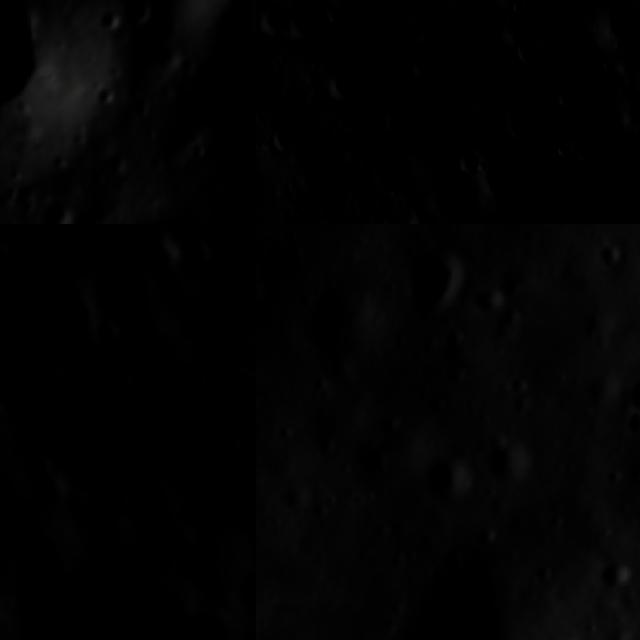crater: (403, 530, 560, 640), (282, 268, 403, 380), (376, 224, 488, 334), (0, 0, 76, 156), (412, 439, 490, 518), (472, 429, 548, 501), (0, 364, 74, 421), (459, 271, 516, 329), (586, 544, 640, 605), (494, 89, 556, 137), (584, 231, 638, 286), (602, 394, 640, 453), (589, 2, 640, 42), (226, 37, 256, 103), (352, 437, 394, 482), (141, 240, 186, 280), (614, 358, 640, 427), (114, 0, 157, 41), (10, 453, 50, 493), (169, 360, 202, 406), (232, 565, 256, 619), (323, 62, 358, 99), (256, 0, 289, 39), (39, 194, 80, 224), (514, 30, 548, 64), (87, 310, 113, 353), (9, 225, 36, 264), (385, 102, 413, 139), (235, 408, 256, 454), (559, 621, 606, 640), (270, 124, 296, 157), (460, 145, 482, 182), (399, 205, 436, 224), (244, 224, 256, 279), (299, 9, 319, 41), (316, 206, 348, 224), (326, 4, 346, 24), (248, 500, 256, 523)
